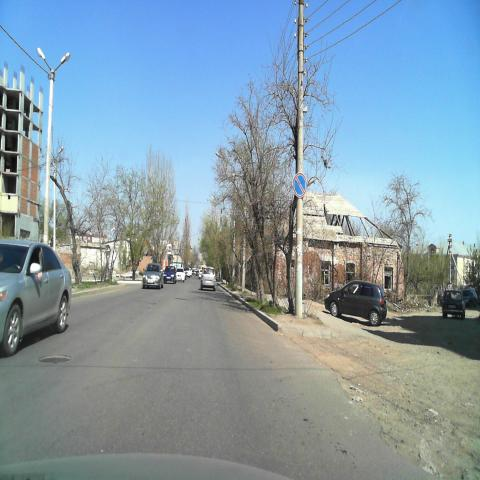3_28: (292, 172, 308, 199)
